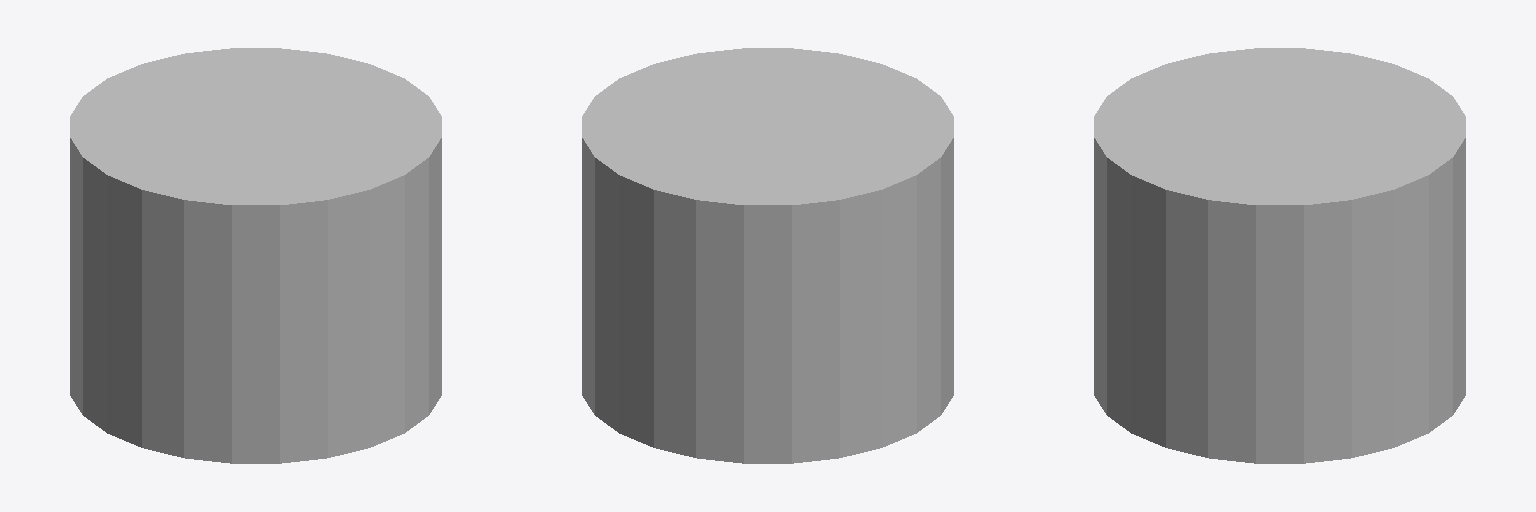
The model's file is S0VernierCollider.obj.
The picture shows the model from 3 angles: view 1: azimuth 30°, elevation 25°; view 2: azimuth 150°, elevation 25°; view 3: azimuth 270°, elevation 25°; orthographic projection.
Visible parts, largest first — view 1: S0VernierColliderBase; view 2: S0VernierColliderBase; view 3: S0VernierColliderBase.
Part boxes in pixels (bbox=[...]): S0VernierColliderBase: bbox=[70, 48, 441, 463]; S0VernierColliderBase: bbox=[582, 48, 953, 463]; S0VernierColliderBase: bbox=[1094, 48, 1465, 463].
Bounding box in the file's own units: 0.1239 × 0.095 × 0.1239.